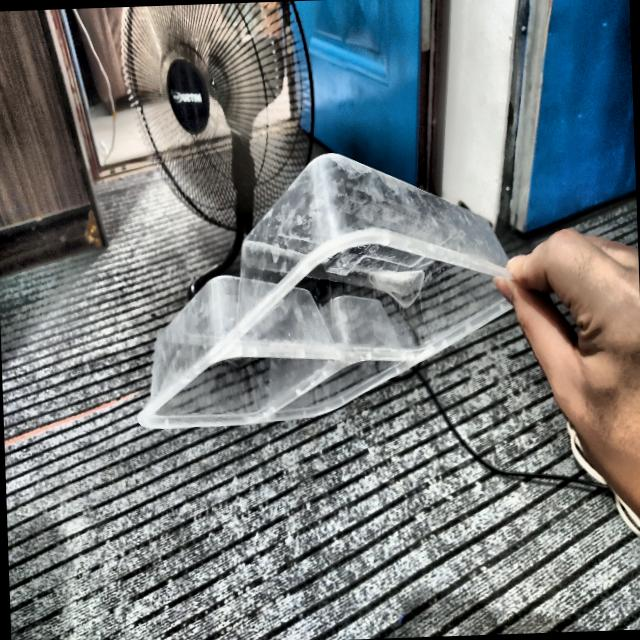plastic container: (138, 154, 510, 428)
